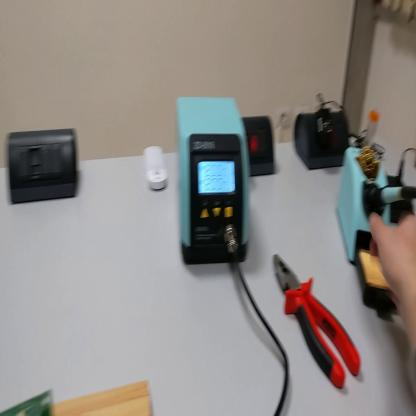electric screwdriver battery: (391, 176, 416, 223)
hand: (371, 206, 416, 343)
pliers: (275, 253, 362, 388)
socket: (295, 110, 351, 172), (241, 116, 276, 179)
welder base: (336, 149, 399, 323)
welder probe tip: (361, 189, 411, 216)
welder station: (176, 96, 251, 265)
working area: (53, 381, 151, 414)
